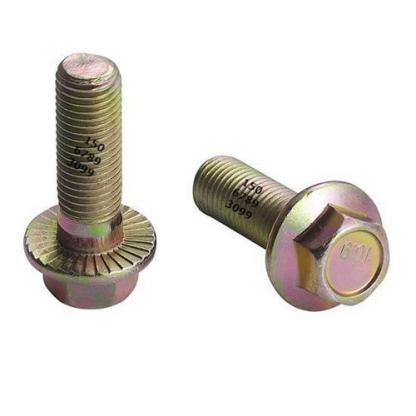FOD: (22, 52, 158, 312), (192, 153, 390, 312)
